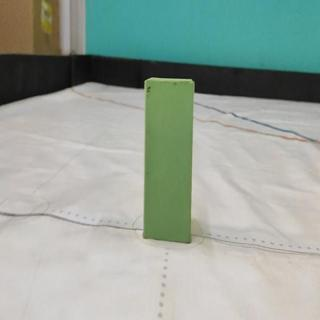greenbox: (143, 77, 192, 245)
